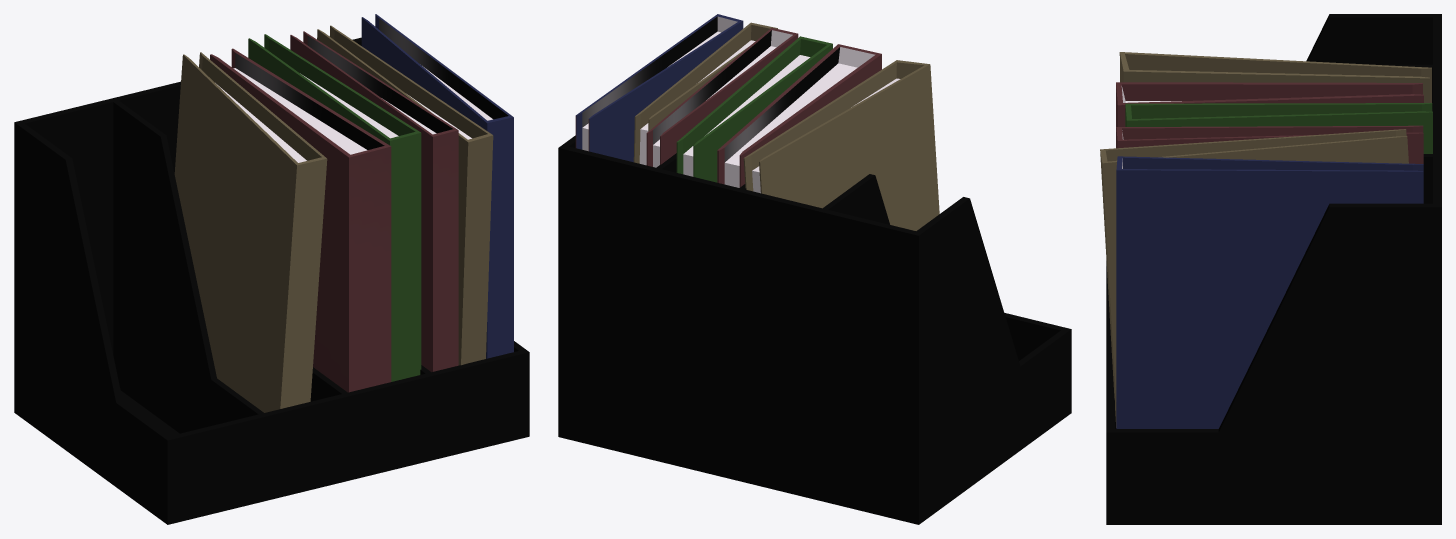
Rendered from FoldersStack.fbx.
The picture shows the model from 3 angles, left to right: view 1: azimuth 30°, elevation 25°; view 2: azimuth 150°, elevation 25°; view 3: azimuth 270°, elevation 25°; orthographic projection. The views are drawn at different scales.
Parts seen in each view (by area): view 1: LotsofPapkas; view 2: LotsofPapkas; view 3: LotsofPapkas.
Part boxes in pixels (x1,y1,x2,y2): LotsofPapkas: (14, 14, 529, 524); LotsofPapkas: (558, 14, 1071, 524); LotsofPapkas: (1100, 14, 1441, 524).
Size of the model in its own units: 73.69 by 63.27 by 55.08.
1 material, 1 textured.
